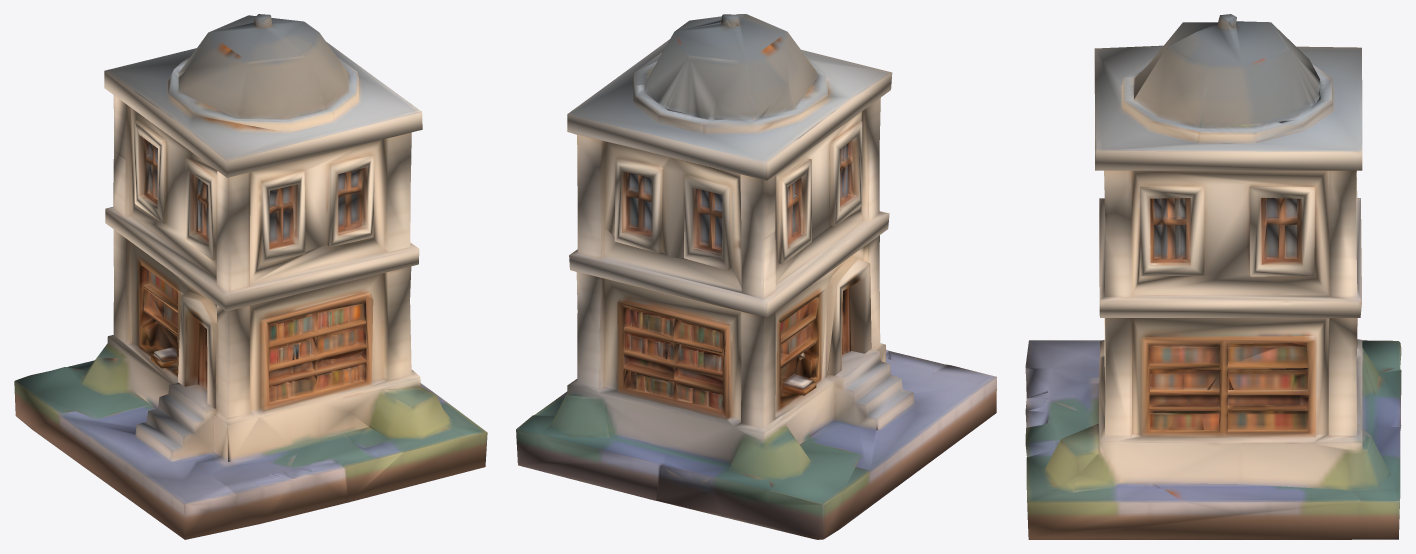
The model's file is kutuphane.glb.
The picture shows the model from 3 angles, left to right: view 1: azimuth 30°, elevation 25°; view 2: azimuth 150°, elevation 25°; view 3: azimuth 270°, elevation 25°; orthographic projection. The views are drawn at different scales.
Parts seen in each view (by area): view 1: node_0; view 2: node_0; view 3: node_0.
Boxes of the visible parts, x1,y1,x2,y2 form: node_0: [14, 14, 487, 539]; node_0: [516, 14, 996, 539]; node_0: [1025, 14, 1401, 539].
Bounding box in the file's own units: 0.6329 × 0.8302 × 0.6216.
Materials: 1 (1 with a texture image).
